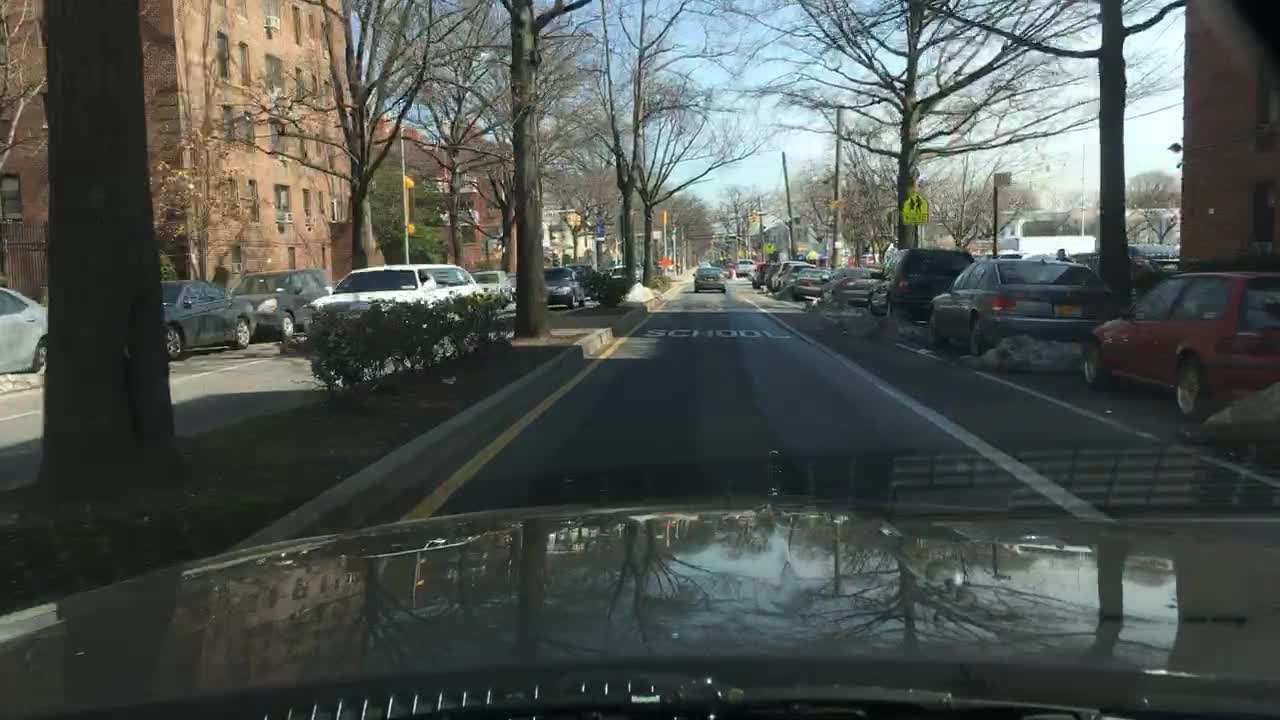car: (1079, 264, 1278, 423), (925, 255, 1116, 363), (161, 277, 257, 360), (230, 268, 335, 342), (880, 243, 973, 321), (303, 264, 437, 304), (0, 283, 46, 378), (822, 265, 883, 312), (779, 264, 830, 300), (544, 268, 586, 309), (430, 264, 483, 296), (474, 268, 513, 306), (565, 261, 601, 300), (690, 263, 726, 294), (1128, 240, 1178, 259), (771, 259, 797, 291), (763, 260, 778, 290), (733, 257, 754, 276), (751, 261, 767, 285), (609, 264, 627, 282), (505, 273, 516, 294), (860, 252, 878, 264), (806, 253, 830, 262), (636, 259, 643, 280), (725, 258, 732, 278), (698, 259, 710, 268)
person: (1053, 247, 1076, 260)
traffic light: (750, 211, 759, 224)
traffic sign: (904, 193, 931, 223), (829, 199, 846, 208), (764, 239, 775, 252), (659, 209, 668, 224), (658, 255, 670, 266)
